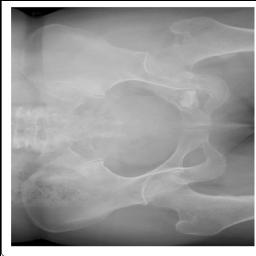cancer: (163, 87, 201, 113)
